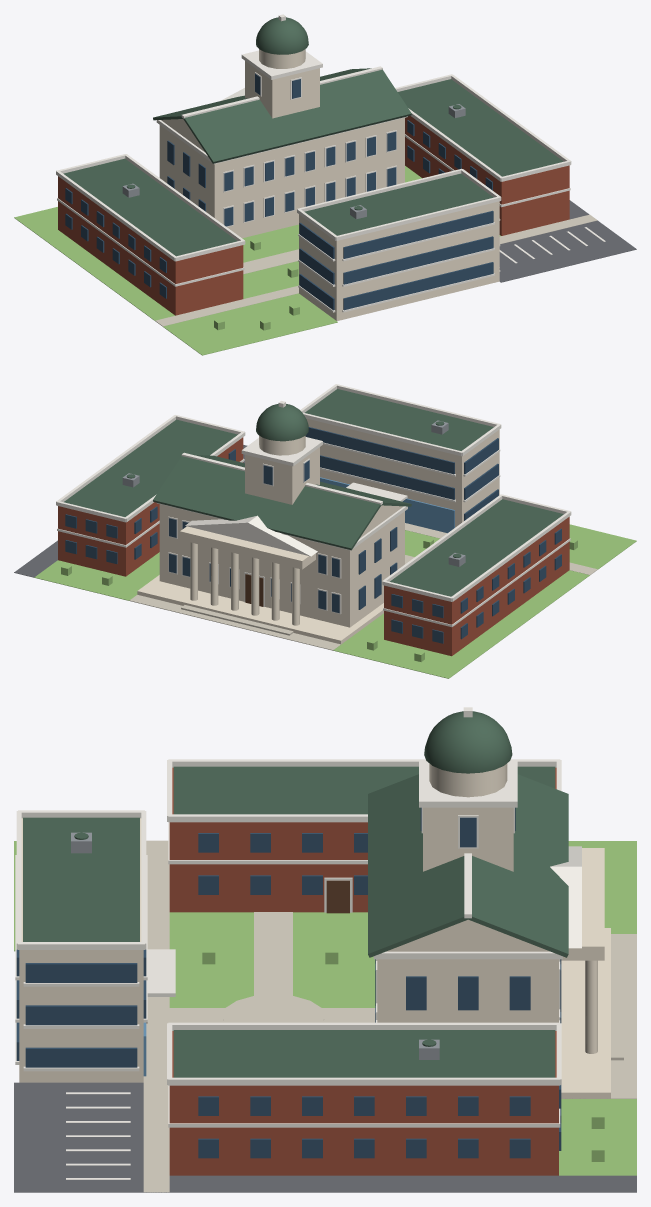
Rendered from university.glb.
3 views of the same model, one above another, from view 1: azimuth 30°, elevation 25°; view 2: azimuth 150°, elevation 25°; view 3: azimuth 270°, elevation 25° (orthographic). The views are drawn at different scales.
Parts seen in each view (by area): view 1: roof (×5), wing (×2), main_hall, library, window_band (×3), lawn_back (×2), parapet (×6), car_park, quad, lawn_side, tower, walk (+8 smaller); view 2: roof (×5), wing (×2), main_hall, library, lawn_front (×2), window_band (×4), parapet (×5), podium, column (×6), lawn_side, tower, entablature (+17 smaller); view 3: roof (×5), wing (×2), quad, parapet (×8), car_park, main_hall, library, lawn_front (×2), drive (×2), walk, window_band (×3), podium (+17 smaller).
Boxes of the visible parts, x1,y1,x2,y2 form: roof (×5): [63, 68, 563, 256]; wing (×2): [58, 116, 569, 315]; main_hall: [159, 118, 404, 235]; library: [299, 201, 499, 320]; window_band (×3): [343, 210, 493, 310]; lawn_back (×2): [163, 293, 337, 355]; parapet (×6): [56, 74, 571, 261]; car_park: [499, 220, 636, 282]; quad: [242, 224, 500, 298]; lawn_side: [38, 229, 174, 320]; tower: [245, 61, 319, 118]; walk: [155, 214, 597, 326]; roof (×5): [64, 389, 563, 596]; wing (×2): [58, 437, 569, 656]; main_hall: [159, 504, 404, 627]; library: [306, 418, 499, 527]; lawn_front (×2): [34, 560, 471, 678]; window_band (×4): [305, 427, 498, 499]; parapet (×5): [56, 384, 571, 601]; podium: [137, 575, 383, 644]; column (×6): [190, 542, 299, 625]; lawn_side: [452, 570, 589, 661]; tower: [245, 447, 319, 504]; entablature: [180, 526, 315, 569]; roof (×5): [23, 766, 568, 1077]; wing (×2): [169, 767, 558, 1175]; quad: [169, 912, 375, 1007]; parapet (×8): [16, 759, 560, 1085]; car_park: [14, 1082, 143, 1192]; main_hall: [377, 959, 558, 1022]; library: [19, 818, 143, 1082]; lawn_front (×2): [559, 841, 636, 1175]; drive (×2): [144, 1175, 636, 1192]; walk: [143, 840, 169, 1192]; window_band (×3): [25, 963, 137, 1067]; podium: [561, 928, 610, 1098].
Size of the model in its own units: 64 by 26.2 by 48.
